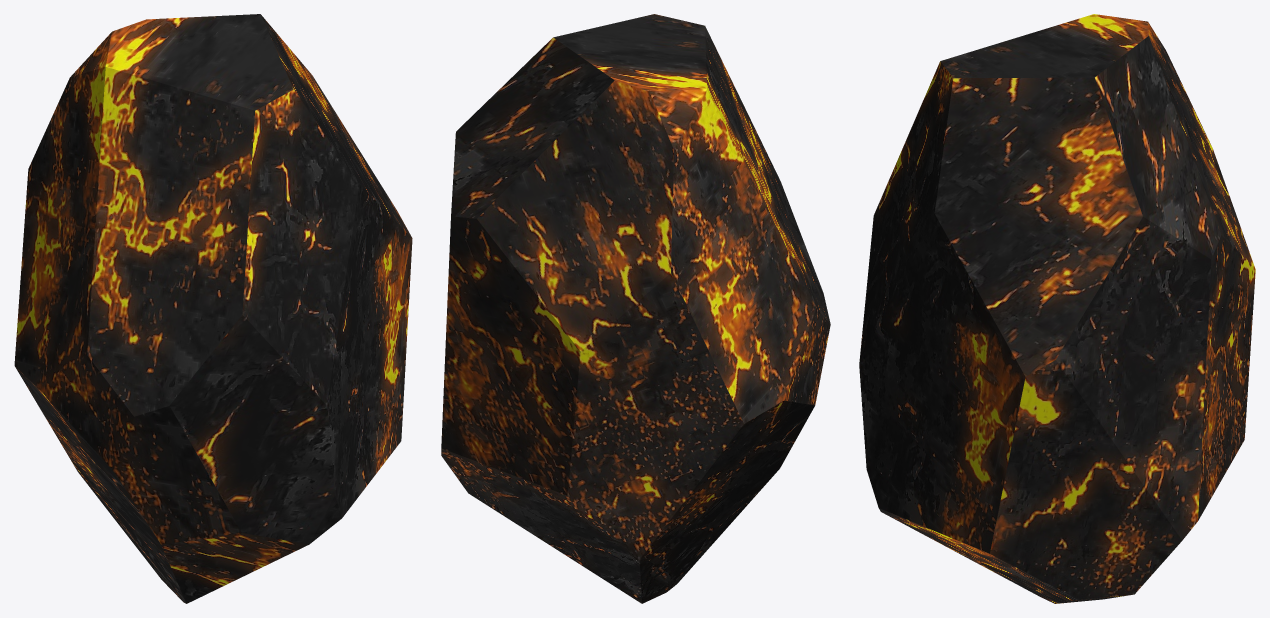
The model's file is Stone1.1.Lava.obj.
3 renders of one model, left to right at view 1: azimuth 30°, elevation 25°; view 2: azimuth 150°, elevation 25°; view 3: azimuth 270°, elevation 25°, orthographic. The views are drawn at different scales.
Parts seen in each view (by area): view 1: Stone1.1_Cube.002; view 2: Stone1.1_Cube.002; view 3: Stone1.1_Cube.002.
Boxes of the visible parts, x1,y1,x2,y2 form: Stone1.1_Cube.002: (14,14,412,603); Stone1.1_Cube.002: (441,14,830,603); Stone1.1_Cube.002: (859,14,1255,603).
Bounding box in the file's own units: 1.62 × 2.48 × 1.55.
1 material, 1 textured.
